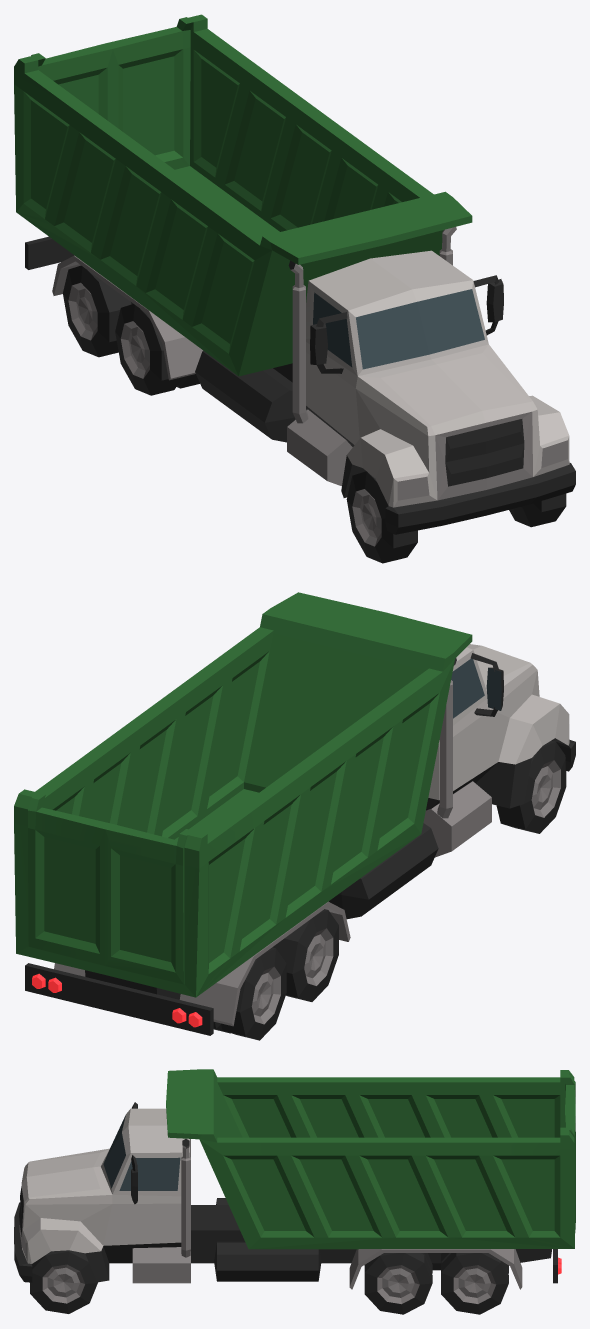
File: vehicles_car-truck-dump.fbx
3 renders of one model, top to bottom at view 1: azimuth 30°, elevation 25°; view 2: azimuth 150°, elevation 25°; view 3: azimuth 270°, elevation 25°, orthographic. The views are drawn at different scales.
Parts seen in each view (by area): view 1: car_truck_dump_base, car_truck_dump_wheel_BR2, car_truck_dump_wheel_BR1, car_truck_dump_wheel_FR, car_truck_dump_wheel_FL; view 2: car_truck_dump_base, car_truck_dump_wheel_BR1, car_truck_dump_wheel_BR2, car_truck_dump_wheel_FR; view 3: car_truck_dump_base, car_truck_dump_wheel_BL1, car_truck_dump_wheel_BL2, car_truck_dump_wheel_FL.
Part boxes in pixels (x1,y1,x2,y2): car_truck_dump_base: (14, 14, 575, 534); car_truck_dump_wheel_BR2: (63, 265, 133, 357); car_truck_dump_wheel_BR1: (115, 304, 199, 395); car_truck_dump_wheel_FR: (346, 471, 417, 563); car_truck_dump_wheel_FL: (509, 493, 566, 527); car_truck_dump_base: (14, 592, 575, 1035); car_truck_dump_wheel_BR1: (272, 909, 338, 1001); car_truck_dump_wheel_BR2: (213, 947, 286, 1040); car_truck_dump_wheel_FR: (496, 740, 566, 833); car_truck_dump_base: (14, 1069, 575, 1289); car_truck_dump_wheel_BL1: (364, 1253, 432, 1314); car_truck_dump_wheel_BL2: (441, 1253, 508, 1314); car_truck_dump_wheel_FL: (30, 1250, 97, 1313).
Bounding box in the file's own units: 57.39 × 71.31 × 200.
